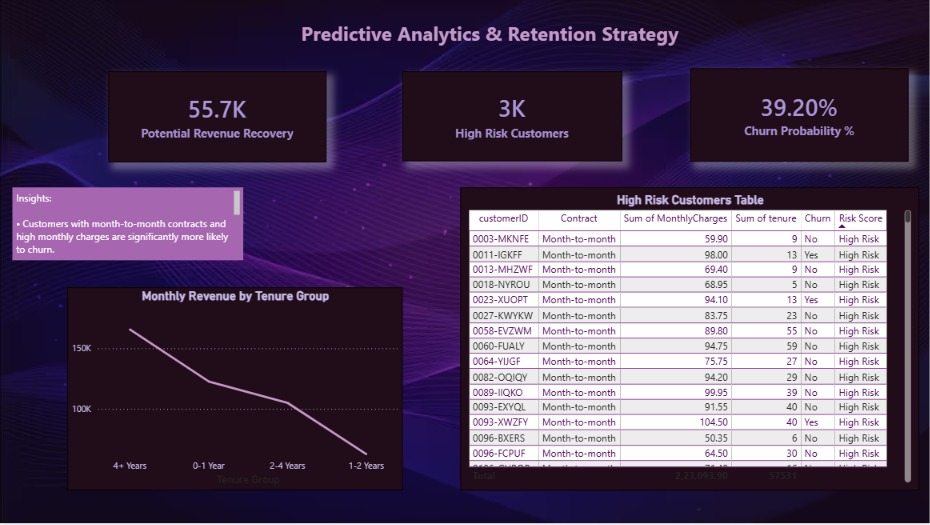

Layout of this report page (visuals, bound fields, positions):
{"tool":"powerbi","page":{"name":"Predictive Analytics","canvas":[1280,720],"ordinal":4},"visuals":[{"type":"tableEx","title":"High Risk Customers Table","fields":{"Values":["Telco-Customer-Churn.customerID","Telco-Customer-Churn.Contract","Sum(Telco-Customer-Churn.MonthlyCharges)","Sum(Telco-Customer-Churn.tenure)","Telco-Customer-Churn.Churn","Telco-Customer-Churn.Risk Score"]},"box":[634,259.3,629.8,415.8],"z":0},{"type":"cardVisual","fields":{"Data":["Revenue Waterfall.Churn Probability %"]},"box":[949.6,96.1,299.1,127.6],"z":1000},{"type":"lineChart","fields":{"Category":["Telco-Customer-Churn.Tenure Group"],"Y":["Telco-Customer-Churn.Monthly Revenue"]},"box":[94.7,396.6,459.7,278.6],"z":2000},{"type":"textbox","box":[19.2,259.3,317,100.2],"z":3000},{"type":"textbox","box":[410.3,24.7,643.6,149.6],"z":4000},{"type":"cardVisual","fields":{"Data":["Revenue Waterfall.Potential Revenue Recovery"]},"box":[150.9,100.2,299.1,124.9],"z":5000},{"type":"cardVisual","fields":{"Data":["Revenue Waterfall.High Risk Customers"]},"box":[554.4,100.2,301.9,123.5],"z":5001}]}

Visuals, with their boxes in screenshot pixels (x1, y1, x2, y2), scaled from the page's 1280x720 canvas onto the 930x525 screenshot:
"High Risk Customers Table" tableEx: 461,189,918,492
cardVisual - Revenue Waterfall.Churn Probability %: 690,70,907,163
lineChart - Telco-Customer-Churn.Tenure Group x Telco-Customer-Churn.Monthly Revenue: 69,289,403,492
textbox: 14,189,244,262
textbox: 298,18,766,127
cardVisual - Revenue Waterfall.Potential Revenue Recovery: 110,73,327,164
cardVisual - Revenue Waterfall.High Risk Customers: 403,73,622,163
